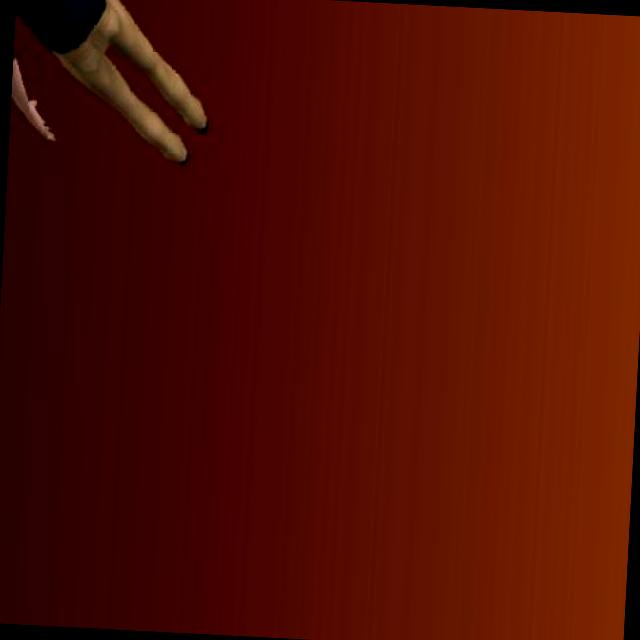Person: (9, 0, 218, 172)
